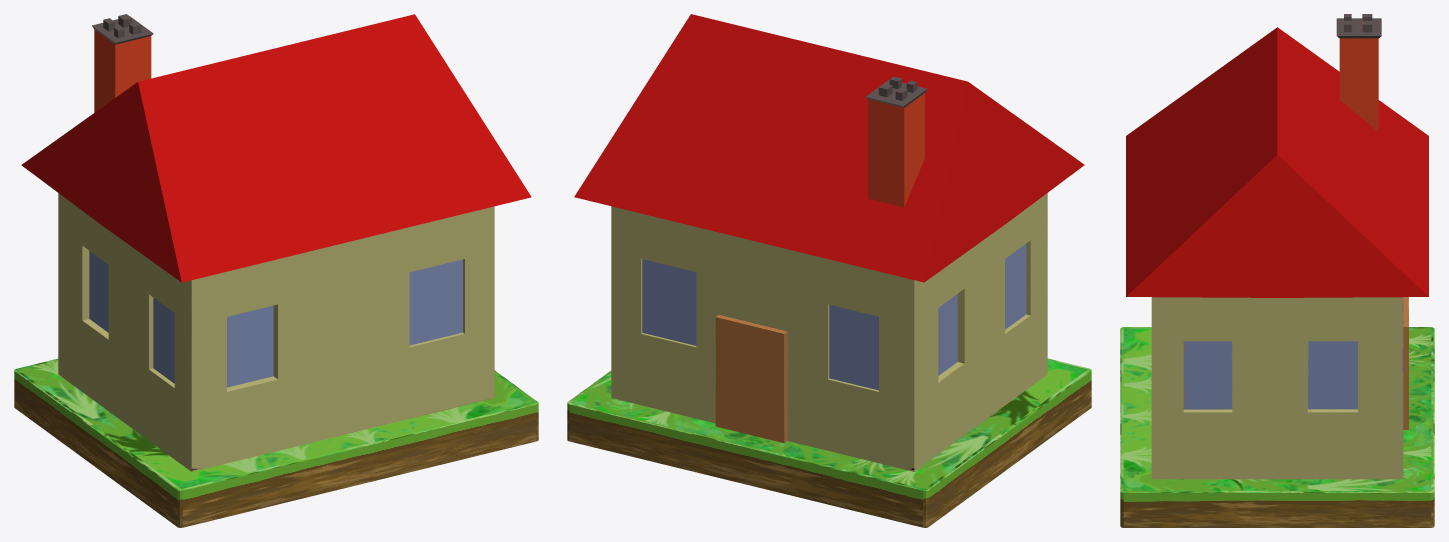
File: house.glb
3 views of the same model, side by side, from view 1: azimuth 30°, elevation 25°; view 2: azimuth 150°, elevation 25°; view 3: azimuth 270°, elevation 25° (orthographic). The views are drawn at different scales.
Parts seen in each view (by area): view 1: House, Cube, house_base, Cube.001; view 2: House, Cube, house_base, Cube.001; view 3: Cube, House, house_base, Cube.001.
Boxes of the visible parts, x1,y1,x2,y2 form: House: (58, 193, 494, 471); Cube: (21, 14, 531, 282); house_base: (14, 358, 538, 527); Cube.001: (92, 14, 153, 112); House: (611, 193, 1047, 471); Cube: (574, 14, 1084, 282); house_base: (567, 358, 1091, 527); Cube.001: (866, 76, 927, 207); Cube: (1126, 27, 1428, 297); House: (1151, 297, 1408, 479); house_base: (1120, 327, 1434, 527); Cube.001: (1336, 14, 1381, 131).
Bounding box in the file's own units: 5 × 5.26 × 4.
4 materials, 4 textured.
